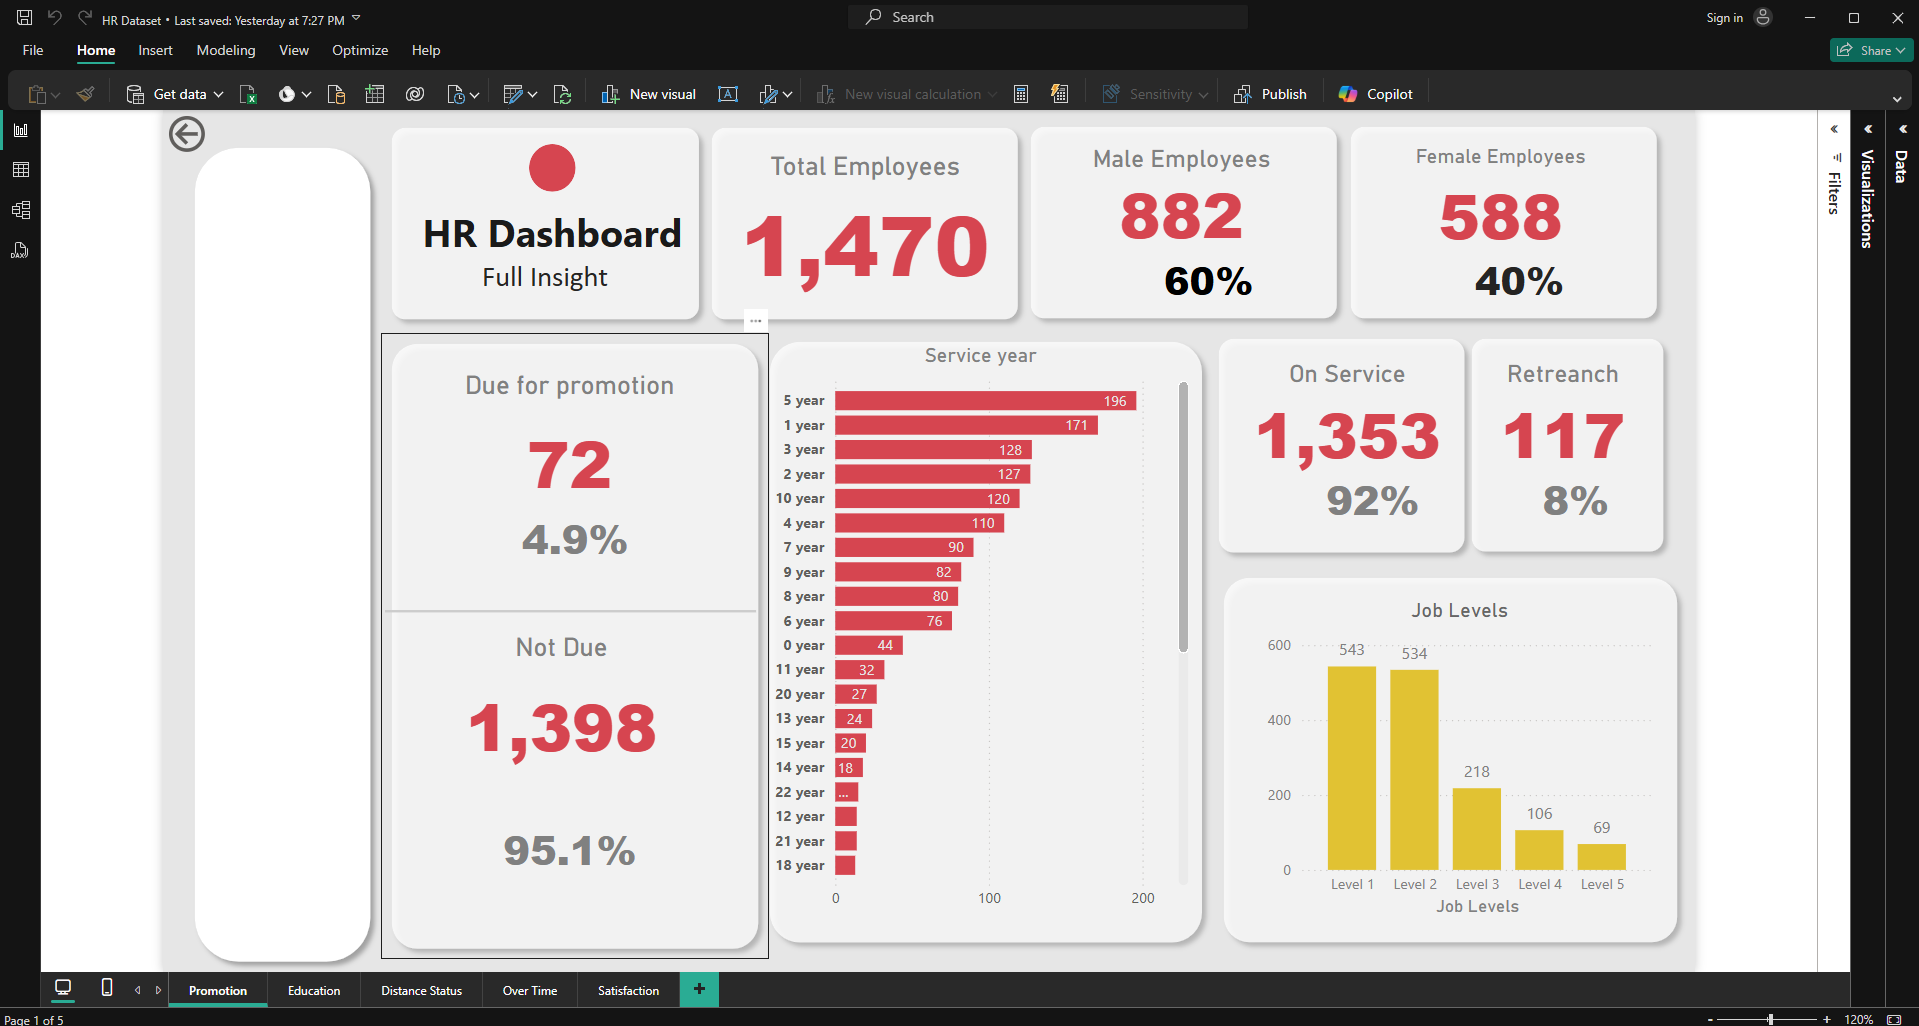

Layout of this report page (visuals, bound fields, positions):
{"tool":"powerbi","page":{"name":"Promotion","canvas":[1280,720],"ordinal":0},"visuals":[{"type":"shape","box":[17.7,22.1,164.7,697.9],"z":0},{"type":"shape","box":[182.4,6.2,274.5,178],"z":1000},{"type":"shape","box":[449,6.2,273.7,178],"z":2000},{"type":"shape","box":[715.6,5.3,273.7,178],"z":3000},{"type":"shape","box":[983,5.3,273.7,178],"z":4000},{"type":"shape","box":[182.4,186,324.1,523.4],"z":5000},{"type":"shape","box":[497.7,184.2,379,519.9],"z":6000},{"type":"shape","box":[873.2,182.4,223.2,196.6],"z":7000},{"type":"shape","box":[1084,182.4,178,195.7],"z":8000},{"type":"textbox","box":[201,74.4,248,53.1],"z":9000},{"type":"textbox","box":[212.5,118.7,213.4,54],"z":10000},{"type":"shape","box":[305.5,28.3,39,39.9],"z":11000},{"type":"card","title":"Total Employees","fields":{"Values":["new measures.Total Emp"]},"box":[467.6,34.5,237.3,123.1],"z":12000},{"type":"card","title":"Male Employees","fields":{"Values":["new measures.Male"]},"box":[746.6,28.3,208.1,89.4],"z":13000},{"type":"card","title":"Female Employees","fields":{"Values":["new measures.Female"]},"box":[1004.3,28.3,226.7,95.6],"z":14000},{"type":"card","fields":{"Values":["new measures.% male"]},"box":[803.2,121.3,139.9,43.4],"z":15000},{"type":"card","fields":{"Values":["new measures.% female"]},"box":[1071.6,124,123.1,37.2],"z":16000},{"type":"card","title":"Due for promotion","fields":{"Values":["new measures.Due to promotion"]},"box":[205.5,217,268.3,127.5],"z":17000},{"type":"card","fields":{"Values":["new measures.% Due to promotion"]},"box":[276.3,333.9,135.5,47.8],"z":18000},{"type":"card","title":"Not Due","fields":{"Values":["new measures.Not Due"]},"box":[201,435.7,263,130.2],"z":19000},{"type":"card","fields":{"Values":["new measures.% Not due"]},"box":[268.3,593.4,143.5,50.5],"z":20000},{"type":"shape","box":[185.1,393.2,310,50.5],"z":21000},{"type":"barChart","title":"Service year","fields":{"Category":["HR-Employee-Attrition.Service year"],"Y":["new measures.Total Emp"]},"box":[504.8,194.8,356.9,481.8],"z":22000},{"type":"actionButton","box":[0,0,100,40],"z":23000},{"type":"card","title":"On Service","fields":{"Values":["new measures.On Service"]},"box":[894.5,208.1,189.5,99.2],"z":24000},{"type":"card","fields":{"Values":["new measures.% On service"]},"box":[948.5,307.3,123.1,37.2],"z":25000},{"type":"card","fields":{"Values":["new measures.% Retreanch"]},"box":[1118.5,307.3,123.1,37.2],"z":26000},{"type":"card","title":"Retreanch","fields":{"Values":["new measures.Retreanch"]},"box":[1096.4,208.1,145.2,99.2],"z":27000},{"type":"shape","box":[876.8,381.7,396.8,322.4],"z":28000},{"type":"clusteredColumnChart","title":"Job Levels","fields":{"Category":["HR-Employee-Attrition.Job Levels "],"Y":["new measures.Total Emp"]},"box":[917.5,407.4,332.1,270.1],"z":29000}]}

Visuals, with their boxes on the page's 1280x720 design canvas (x1, y1, x2, y2). These are canvas units, not pixel positions in the 1919x1026 screenshot, which may show the page scaled, cropped or inside an application window:
shape: {"x1": 18, "y1": 22, "x2": 182, "y2": 720}
shape: {"x1": 182, "y1": 6, "x2": 457, "y2": 184}
shape: {"x1": 449, "y1": 6, "x2": 723, "y2": 184}
shape: {"x1": 716, "y1": 5, "x2": 989, "y2": 183}
shape: {"x1": 983, "y1": 5, "x2": 1257, "y2": 183}
shape: {"x1": 182, "y1": 186, "x2": 506, "y2": 709}
shape: {"x1": 498, "y1": 184, "x2": 877, "y2": 704}
shape: {"x1": 873, "y1": 182, "x2": 1096, "y2": 379}
shape: {"x1": 1084, "y1": 182, "x2": 1262, "y2": 378}
textbox: {"x1": 201, "y1": 74, "x2": 449, "y2": 128}
textbox: {"x1": 212, "y1": 119, "x2": 426, "y2": 173}
shape: {"x1": 306, "y1": 28, "x2": 344, "y2": 68}
"Total Employees" card: {"x1": 468, "y1": 34, "x2": 705, "y2": 158}
"Male Employees" card: {"x1": 747, "y1": 28, "x2": 955, "y2": 118}
"Female Employees" card: {"x1": 1004, "y1": 28, "x2": 1231, "y2": 124}
card - new measures.% male: {"x1": 803, "y1": 121, "x2": 943, "y2": 165}
card - new measures.% female: {"x1": 1072, "y1": 124, "x2": 1195, "y2": 161}
"Due for promotion" card: {"x1": 206, "y1": 217, "x2": 474, "y2": 344}
card - new measures.% Due to promotion: {"x1": 276, "y1": 334, "x2": 412, "y2": 382}
"Not Due" card: {"x1": 201, "y1": 436, "x2": 464, "y2": 566}
card - new measures.% Not due: {"x1": 268, "y1": 593, "x2": 412, "y2": 644}
shape: {"x1": 185, "y1": 393, "x2": 495, "y2": 444}
"Service year" barChart: {"x1": 505, "y1": 195, "x2": 862, "y2": 677}
actionButton: {"x1": 0, "y1": 0, "x2": 100, "y2": 40}
"On Service" card: {"x1": 894, "y1": 208, "x2": 1084, "y2": 307}
card - new measures.% On service: {"x1": 948, "y1": 307, "x2": 1072, "y2": 344}
card - new measures.% Retreanch: {"x1": 1118, "y1": 307, "x2": 1242, "y2": 344}
"Retreanch" card: {"x1": 1096, "y1": 208, "x2": 1242, "y2": 307}
shape: {"x1": 877, "y1": 382, "x2": 1274, "y2": 704}
"Job Levels" clusteredColumnChart: {"x1": 918, "y1": 407, "x2": 1250, "y2": 678}
